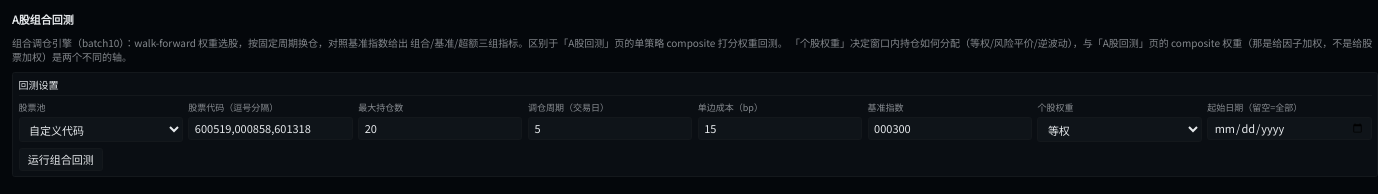
Test: AsharePortfolioPage › 零窗口分支:404 envelope 的后端 message 显示,而非空指标组
The width and height of the screenshot is (1378, 194).
Click the button "运行组合回测" at (61, 159), box [18,148,103,171]
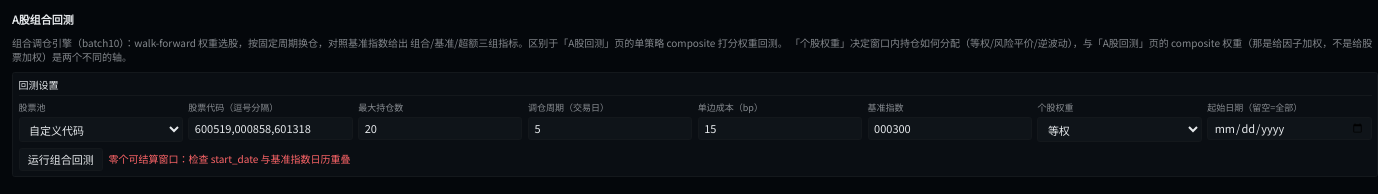
Expected: the text "零个可结算窗口：检查 start_date 与基准指数日历重叠" is shown, [108,152,351,166]
